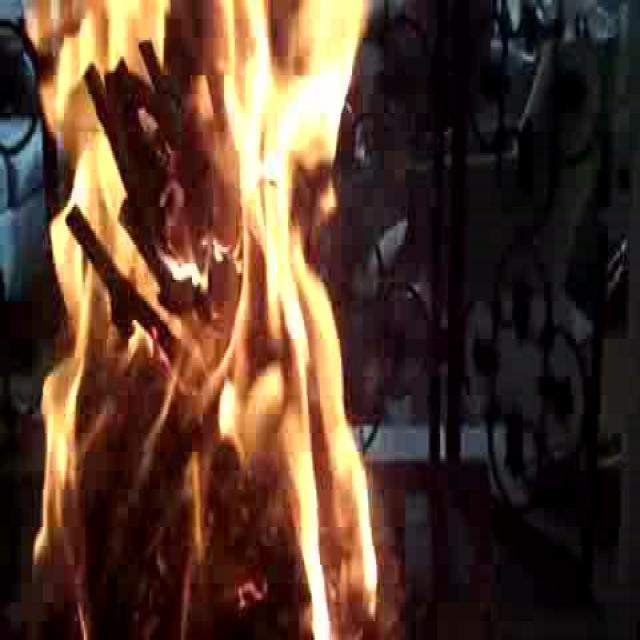Fire: (64, 10, 346, 613)
